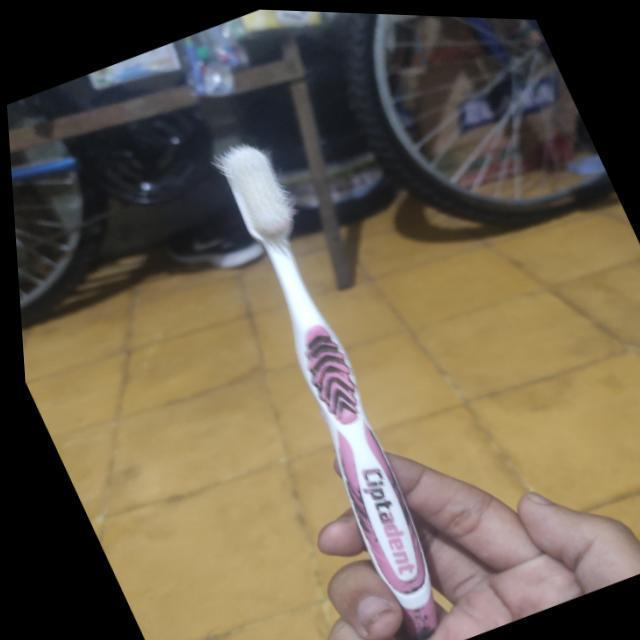toothbrush: (179, 116, 491, 636)
